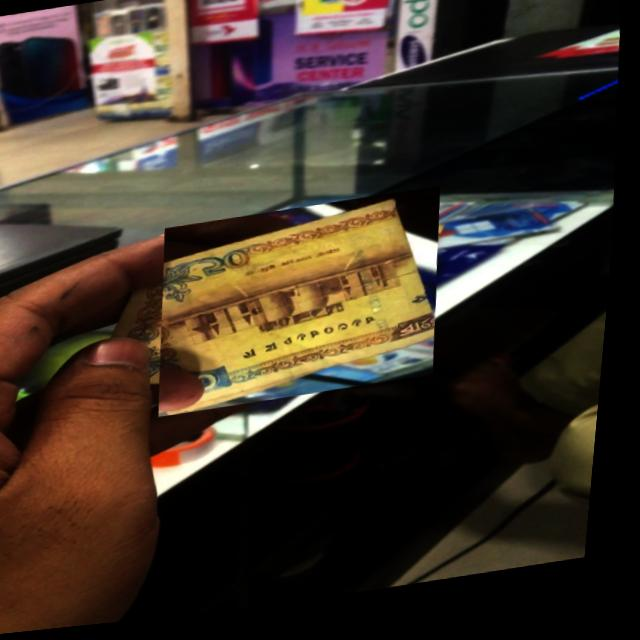Taka: (156, 196, 455, 423)
